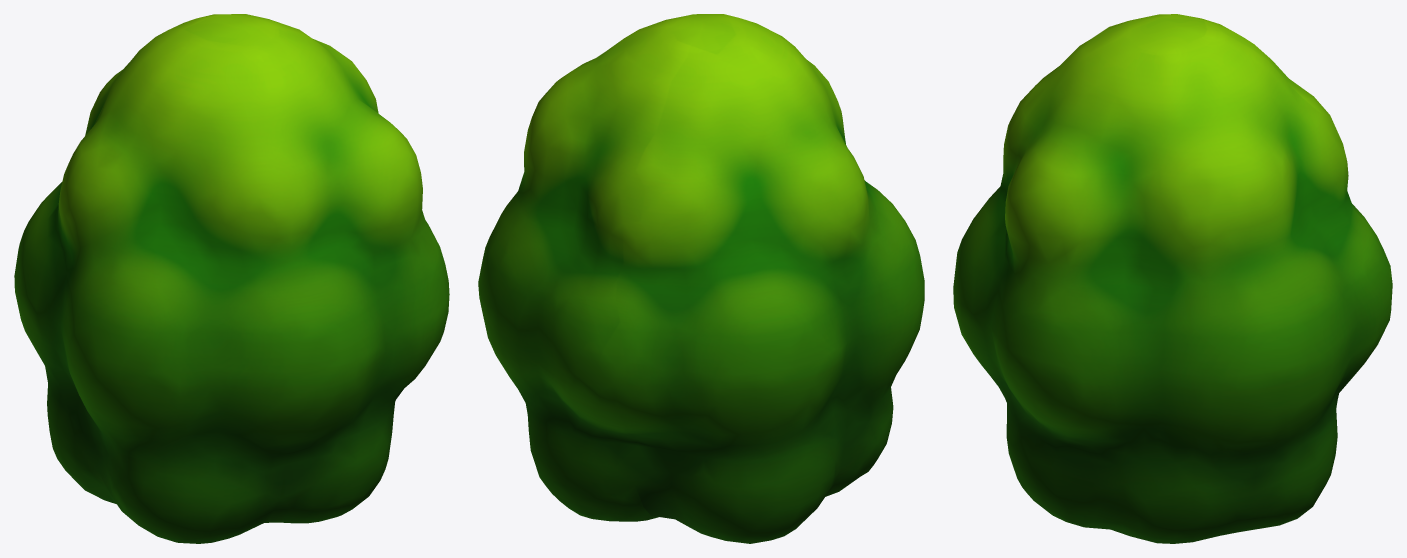
File: fbx_item_89_tree_leaf.fbx
3 renders of one model, left to right at view 1: azimuth 30°, elevation 25°; view 2: azimuth 150°, elevation 25°; view 3: azimuth 270°, elevation 25°, orthographic.
Parts seen in each view (by area): view 1: item_89_tree_leaf; view 2: item_89_tree_leaf; view 3: item_89_tree_leaf.
Boxes of the visible parts, left/top/right/bottom form: item_89_tree_leaf: left=14, top=14, right=449, bottom=543; item_89_tree_leaf: left=478, top=14, right=924, bottom=543; item_89_tree_leaf: left=953, top=14, right=1392, bottom=543.
Bounding box in the file's own units: 28.44 × 35.52 × 29.8.
